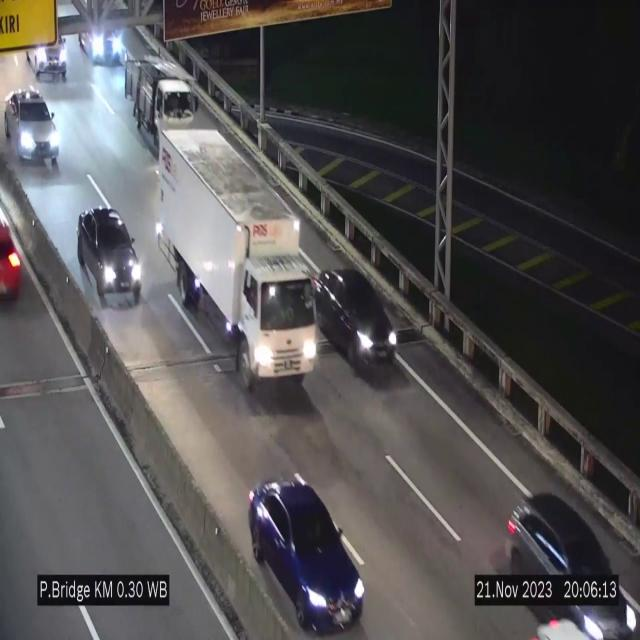Car: (492, 492, 640, 640), (248, 478, 364, 630), (312, 265, 398, 378), (78, 205, 142, 306), (5, 88, 63, 168), (74, 10, 128, 81), (24, 22, 73, 86), (0, 210, 29, 318)
Truck: (156, 128, 314, 388), (122, 47, 194, 150)
